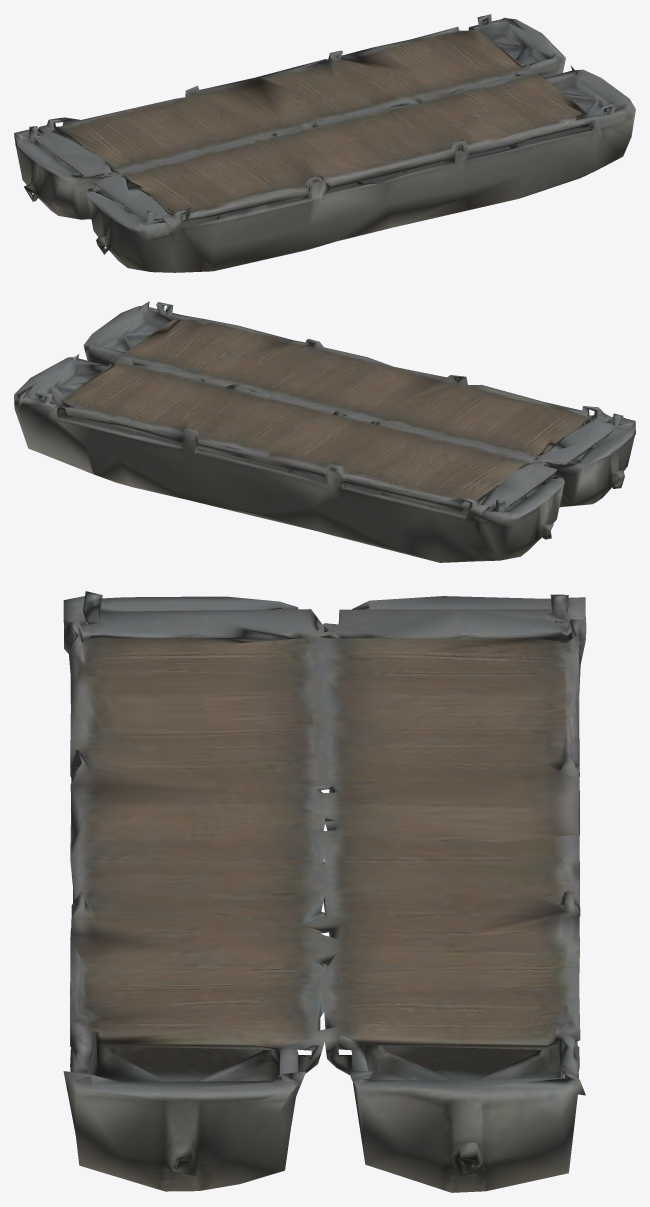
Rendered from prop_pontoon_section.glb.
3 renders of one model, top to bottom at view 1: azimuth 30°, elevation 25°; view 2: azimuth 150°, elevation 25°; view 3: azimuth 270°, elevation 25°, orthographic. The views are drawn at different scales.
Visible parts, largest first — view 1: tripo_node_f1154365-3498-4808-84bf-5ca8790a6d64; view 2: tripo_node_f1154365-3498-4808-84bf-5ca8790a6d64; view 3: tripo_node_f1154365-3498-4808-84bf-5ca8790a6d64.
Boxes of the visible parts, box(x1,y1,x2,y2) form: tripo_node_f1154365-3498-4808-84bf-5ca8790a6d64: box(14, 14, 635, 272); tripo_node_f1154365-3498-4808-84bf-5ca8790a6d64: box(14, 301, 635, 562); tripo_node_f1154365-3498-4808-84bf-5ca8790a6d64: box(63, 591, 586, 1192).
Size of the model in its own units: 1 by 0.1509 by 0.4293.
Materials: 1 (1 with a texture image).
